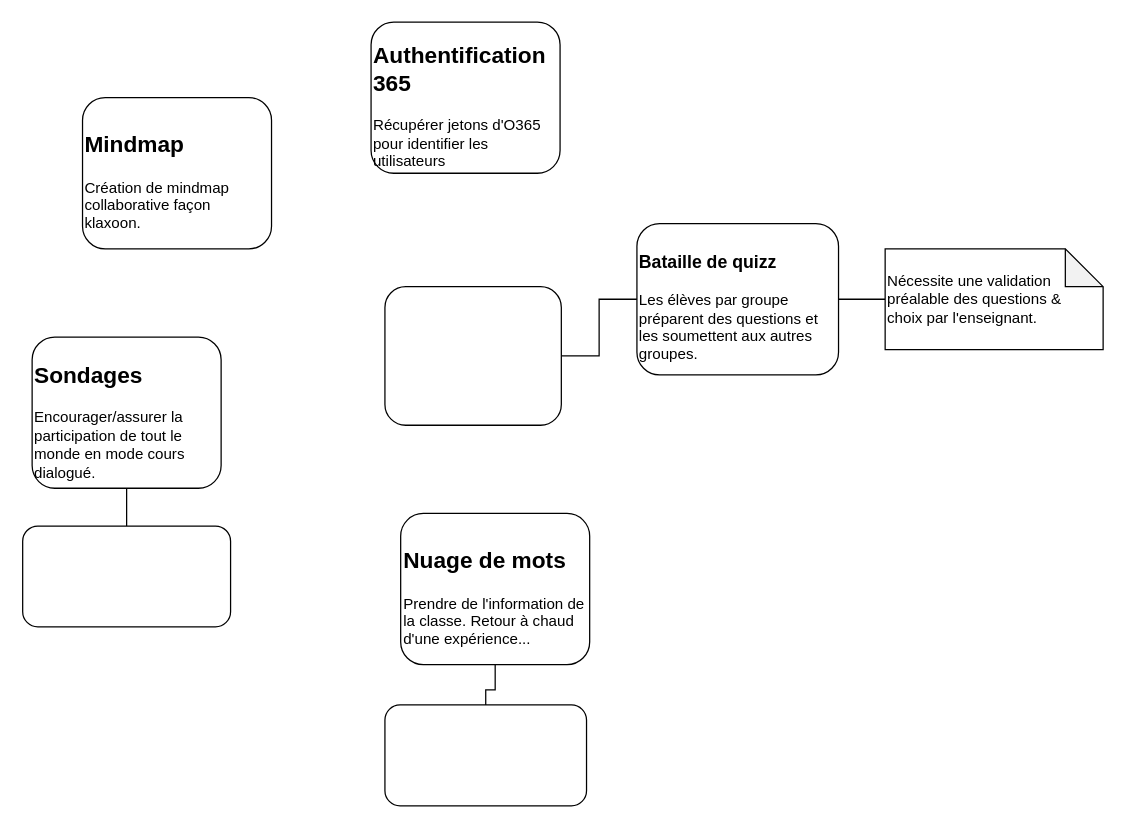
Some shapes in this 1125 by 828 pixel diagram are drawn without their labels. The box of each missing label's shape, as (x1, y1, x2, y2) in pixels:
Modes Mot unique oui/non: (384, 704, 587, 806)
Modes Réponse libre/propositions Réponse unique oui/non: (21, 525, 231, 627)
Quizz Remplaçant de kahoot. Revoir le système de comptage de point.: (384, 285, 561, 425)
